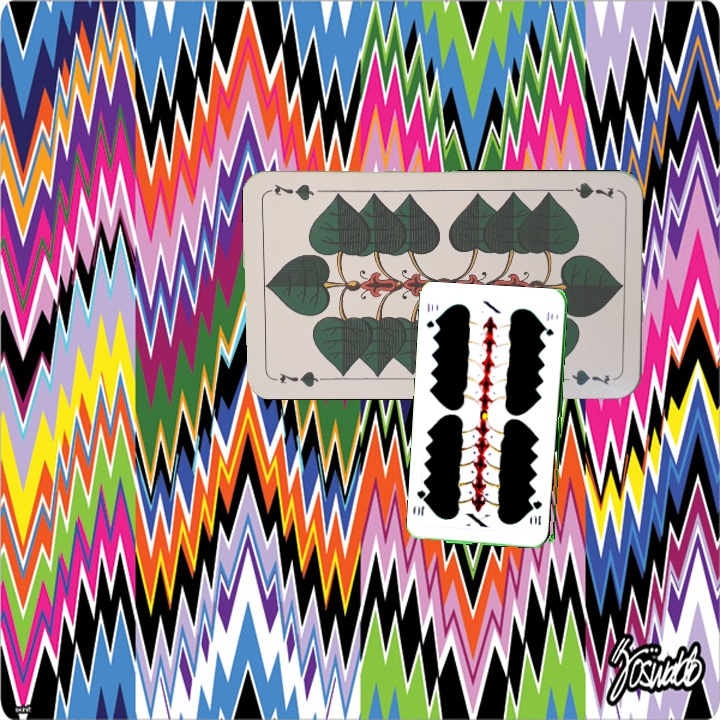G10: (423, 300, 441, 330), (530, 496, 544, 528)
G7: (557, 178, 616, 201), (268, 368, 327, 390)
